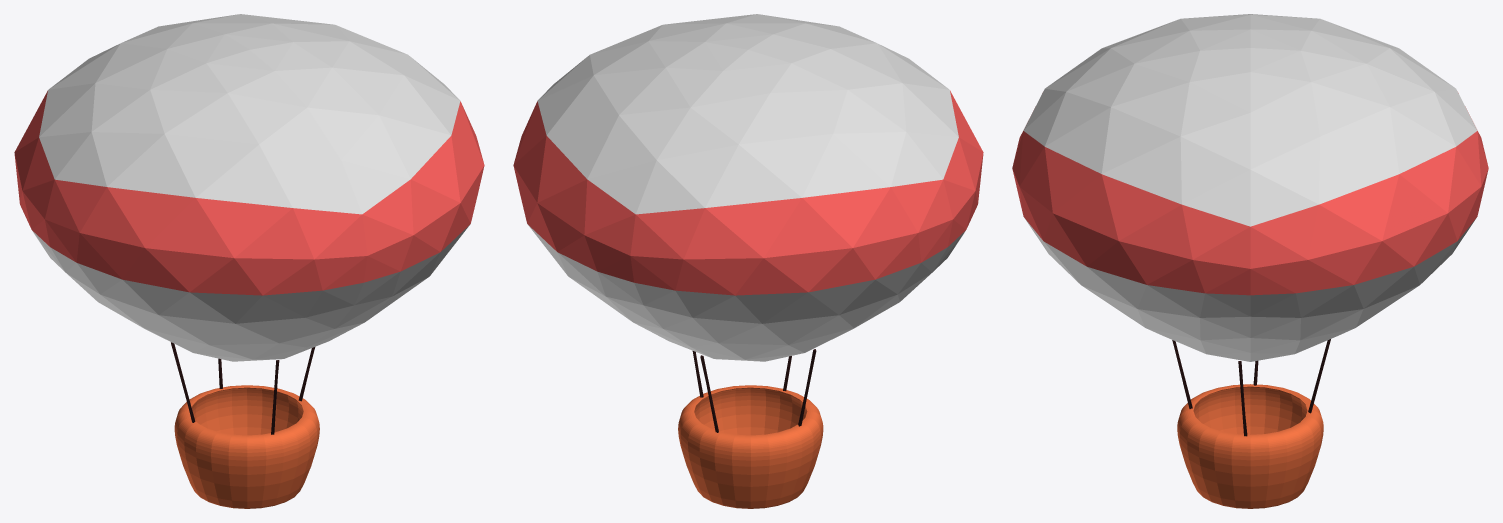
The model's file is ballon_red.dae.
3 views of the same model, side by side, from view 1: azimuth 30°, elevation 25°; view 2: azimuth 150°, elevation 25°; view 3: azimuth 270°, elevation 25° (orthographic).
Visible parts, largest first — view 1: 气球, 底座; view 2: 气球, 底座; view 3: 气球, 底座.
Boxes of the visible parts, x1=… form: 气球: x1=14, y1=14, x2=484, y2=361; 底座: x1=174, y1=385, x2=319, y2=508; 气球: x1=513, y1=14, x2=983, y2=361; 底座: x1=678, y1=385, x2=823, y2=508; 气球: x1=1012, y1=14, x2=1488, y2=361; 底座: x1=1177, y1=384, x2=1323, y2=508.
Size of the model in its own units: 576 by 586 by 576.
